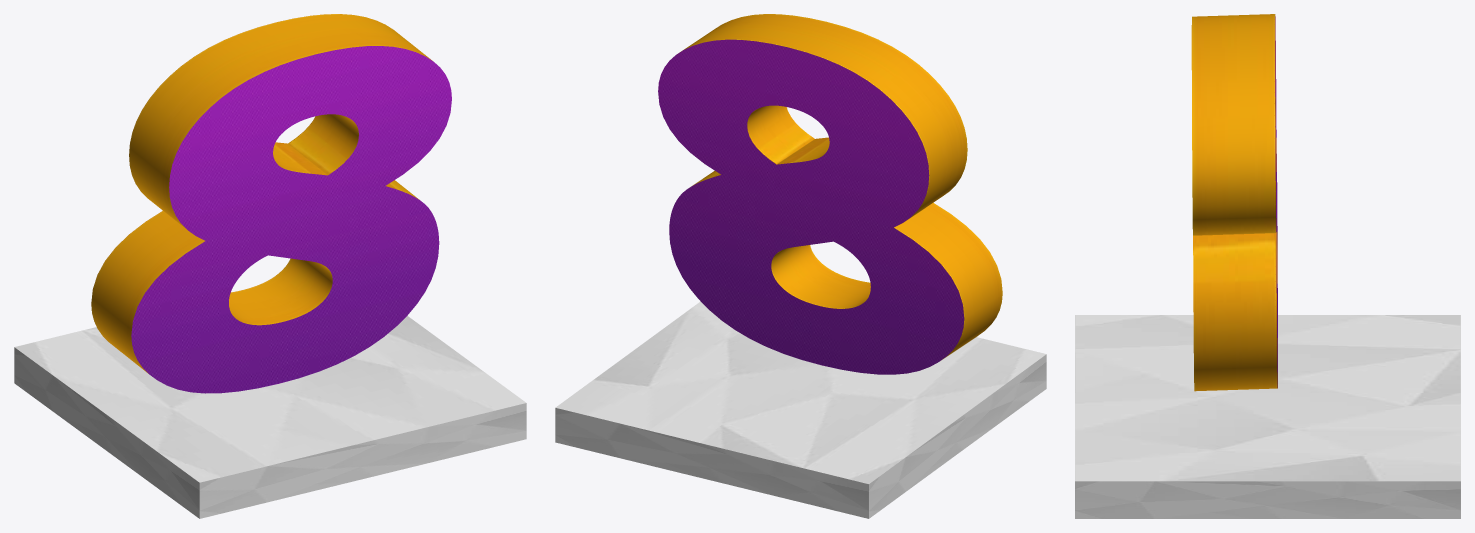
File: OCHO.DAE
3 views of the same model, side by side, from view 1: azimuth 30°, elevation 25°; view 2: azimuth 150°, elevation 25°; view 3: azimuth 270°, elevation 25° (orthographic). The views are drawn at different scales.
Visible parts, largest first — view 1: Text001, Box001; view 2: Text001, Box001; view 3: Box001, Text001.
Part boxes in pixels (x1,y1,x2,y2): Text001: (91,14,451,393); Box001: (14,316,526,518); Text001: (658,14,1002,374); Box001: (555,301,1046,518); Box001: (1075,315,1460,518); Text001: (1191,14,1277,391).
Size of the model in its own units: 144 by 137 by 156.
Materials: 3 (3 with a texture image).
